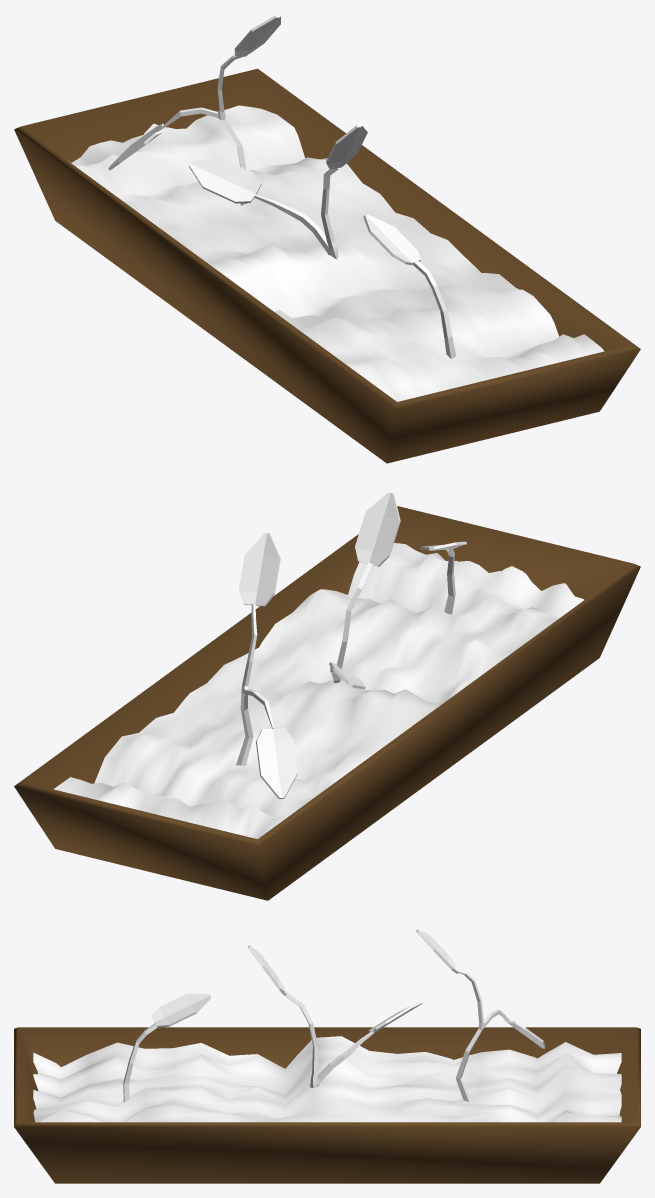
File: PlanterBox.fbx
3 views of the same model, one above another, from view 1: azimuth 30°, elevation 25°; view 2: azimuth 150°, elevation 25°; view 3: azimuth 270°, elevation 25° (orthographic). The views are drawn at different scales.
Visible parts, largest first — view 1: Cube.006; view 2: Cube.006; view 3: Cube.006.
Boxes of the visible parts, box(x1,y1,x2,y2) form: Cube.006: box(14, 14, 640, 463); Cube.006: box(14, 492, 640, 900); Cube.006: box(14, 929, 640, 1183).
Bounding box in the file's own units: 108 × 109 × 292.
